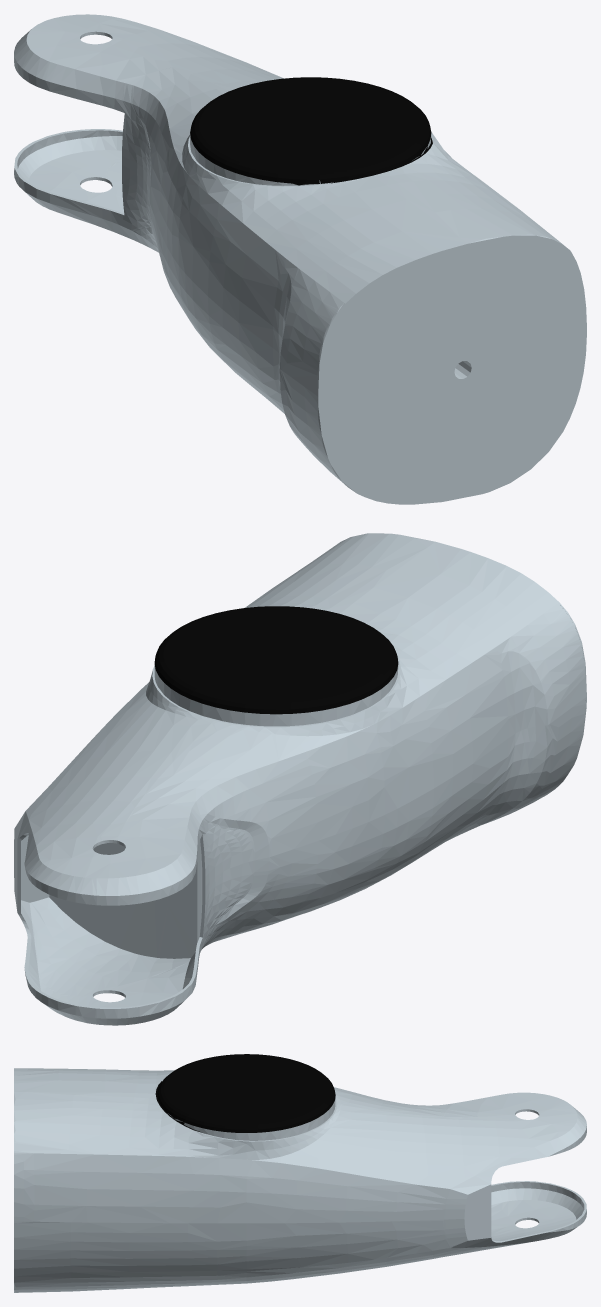
The model's file is right_hip_yaw_link.dae.
The picture shows the model from 3 angles, top to bottom: view 1: azimuth 30°, elevation 25°; view 2: azimuth 150°, elevation 25°; view 3: azimuth 270°, elevation 25°; orthographic projection. The views are drawn at different scales.
Parts seen in each view (by area): view 1: right_hip_yaw_link; view 2: right_hip_yaw_link; view 3: right_hip_yaw_link.
Boxes of the visible parts, x1=… form: right_hip_yaw_link: x1=14, y1=14, x2=586, y2=504; right_hip_yaw_link: x1=14, y1=533, x2=586, y2=1025; right_hip_yaw_link: x1=14, y1=1054, x2=586, y2=1292.
Size of the model in its own units: 0.1451 by 0.1298 by 0.3544.
